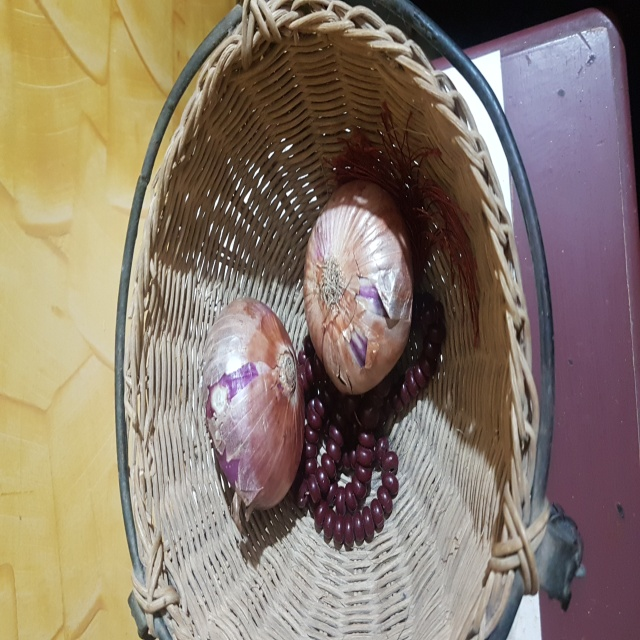onion: (300, 166, 435, 396), (192, 289, 319, 521)
